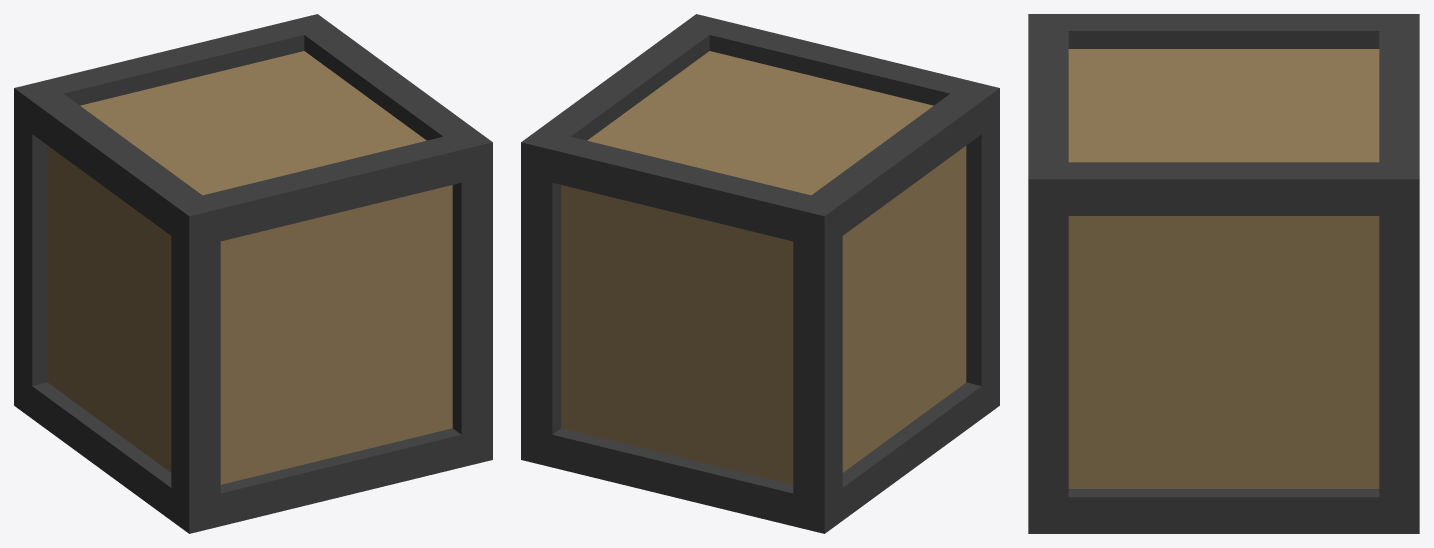
The model's file is Small Box Type 1.fbx.
The picture shows the model from 3 angles, left to right: view 1: azimuth 30°, elevation 25°; view 2: azimuth 150°, elevation 25°; view 3: azimuth 270°, elevation 25°; orthographic projection. The views are drawn at different scales.
Parts seen in each view (by area): view 1: Cube.202, Cube.201; view 2: Cube.202, Cube.201; view 3: Cube.202, Cube.201.
Part boxes in pixels (x1,y1,x2,y2): Cube.202: [47, 51, 452, 484]; Cube.201: [14, 14, 492, 533]; Cube.202: [561, 51, 966, 484]; Cube.201: [521, 14, 999, 533]; Cube.202: [1068, 49, 1379, 488]; Cube.201: [1028, 14, 1419, 533].
Size of the model in its own units: 0.6692 by 0.6692 by 0.6692.
